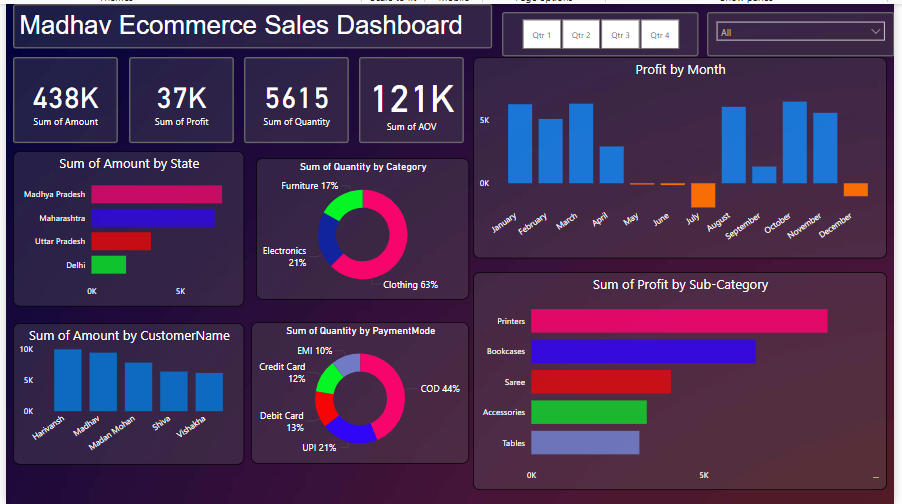

Layout of this report page (visuals, bound fields, positions):
{"tool":"powerbi","page":{"name":"Page 1","canvas":[1280,720],"ordinal":0},"visuals":[{"type":"textbox","box":[10,0,690,64.3],"z":0},{"type":"columnChart","title":" Profit by Month","fields":{"Category":["Orders.Order Date.Variation.Date Hierarchy.Month"],"Y":["Details.Profit"]},"box":[672.9,75.7,595.7,290],"z":1000},{"type":"barChart","fields":{"Category":["Details.Sub-Category"],"Y":["Details.Profit"]},"box":[672.9,385.7,595.7,314.3],"z":2000},{"type":"donutChart","fields":{"Category":["Details.Category"],"Y":["Details.Quantity"]},"box":[360,221.4,307.1,204.3],"z":3000},{"type":"donutChart","fields":{"Y":["Details.Quantity"],"Category":["Details.PaymentMode"]},"box":[352.9,458.6,314.3,204.3],"z":4000},{"type":"card","fields":{"Values":["Details.Amount"]},"box":[10,75.7,151.4,124.3],"z":5000},{"type":"card","fields":{"Values":["Details.Profit"]},"box":[177.1,75.7,151.4,124.3],"z":6000},{"type":"card","fields":{"Values":["Details.Quantity"]},"box":[342.9,75.7,151.4,124.3],"z":7000},{"type":"card","fields":{"Values":["Details.AOV"]},"box":[508.6,75.7,151.4,124.3],"z":8000},{"type":"barChart","title":"Sum of Amount by State","fields":{"Y":["Details.Profit"],"Category":["Orders.State"]},"box":[10,211.4,332.9,224.3],"z":9000},{"type":"columnChart","fields":{"Category":["Orders.CustomerName"],"Y":["Details.Amount"]},"box":[10,459,333,204],"z":10000},{"type":"slicer","fields":{"Values":["Orders.Order Date.Variation.Date Hierarchy.Quarter"]},"box":[714.3,11.4,282.9,64.3],"z":11000},{"type":"slicer","fields":{"Values":["Orders.State"]},"box":[1010,11.4,270,64.3],"z":12000}]}

Visuals, with their boxes in screenshot pixels (x1, y1, x2, y2), scaled from the page's 1280x720 canvas onto the 902x504 screenshot:
textbox: 7/0/493/45
" Profit by Month" columnChart: 474/53/894/256
barChart - Details.Sub-Category x Details.Profit: 474/270/894/490
donutChart - Details.Category x Details.Quantity: 254/155/470/298
donutChart - Details.Quantity x Details.PaymentMode: 249/321/470/464
card - Details.Amount: 7/53/114/140
card - Details.Profit: 125/53/231/140
card - Details.Quantity: 242/53/348/140
card - Details.AOV: 358/53/465/140
"Sum of Amount by State" barChart: 7/148/242/305
columnChart - Orders.CustomerName x Details.Amount: 7/321/242/464
slicer - Orders.Order Date.Variation.Date Hierarchy.Quarter: 503/8/703/53
slicer - Orders.State: 712/8/901/53
